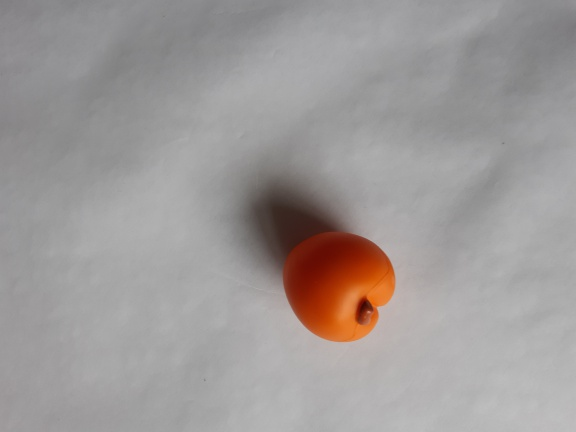apricot: (276, 223, 406, 350)
